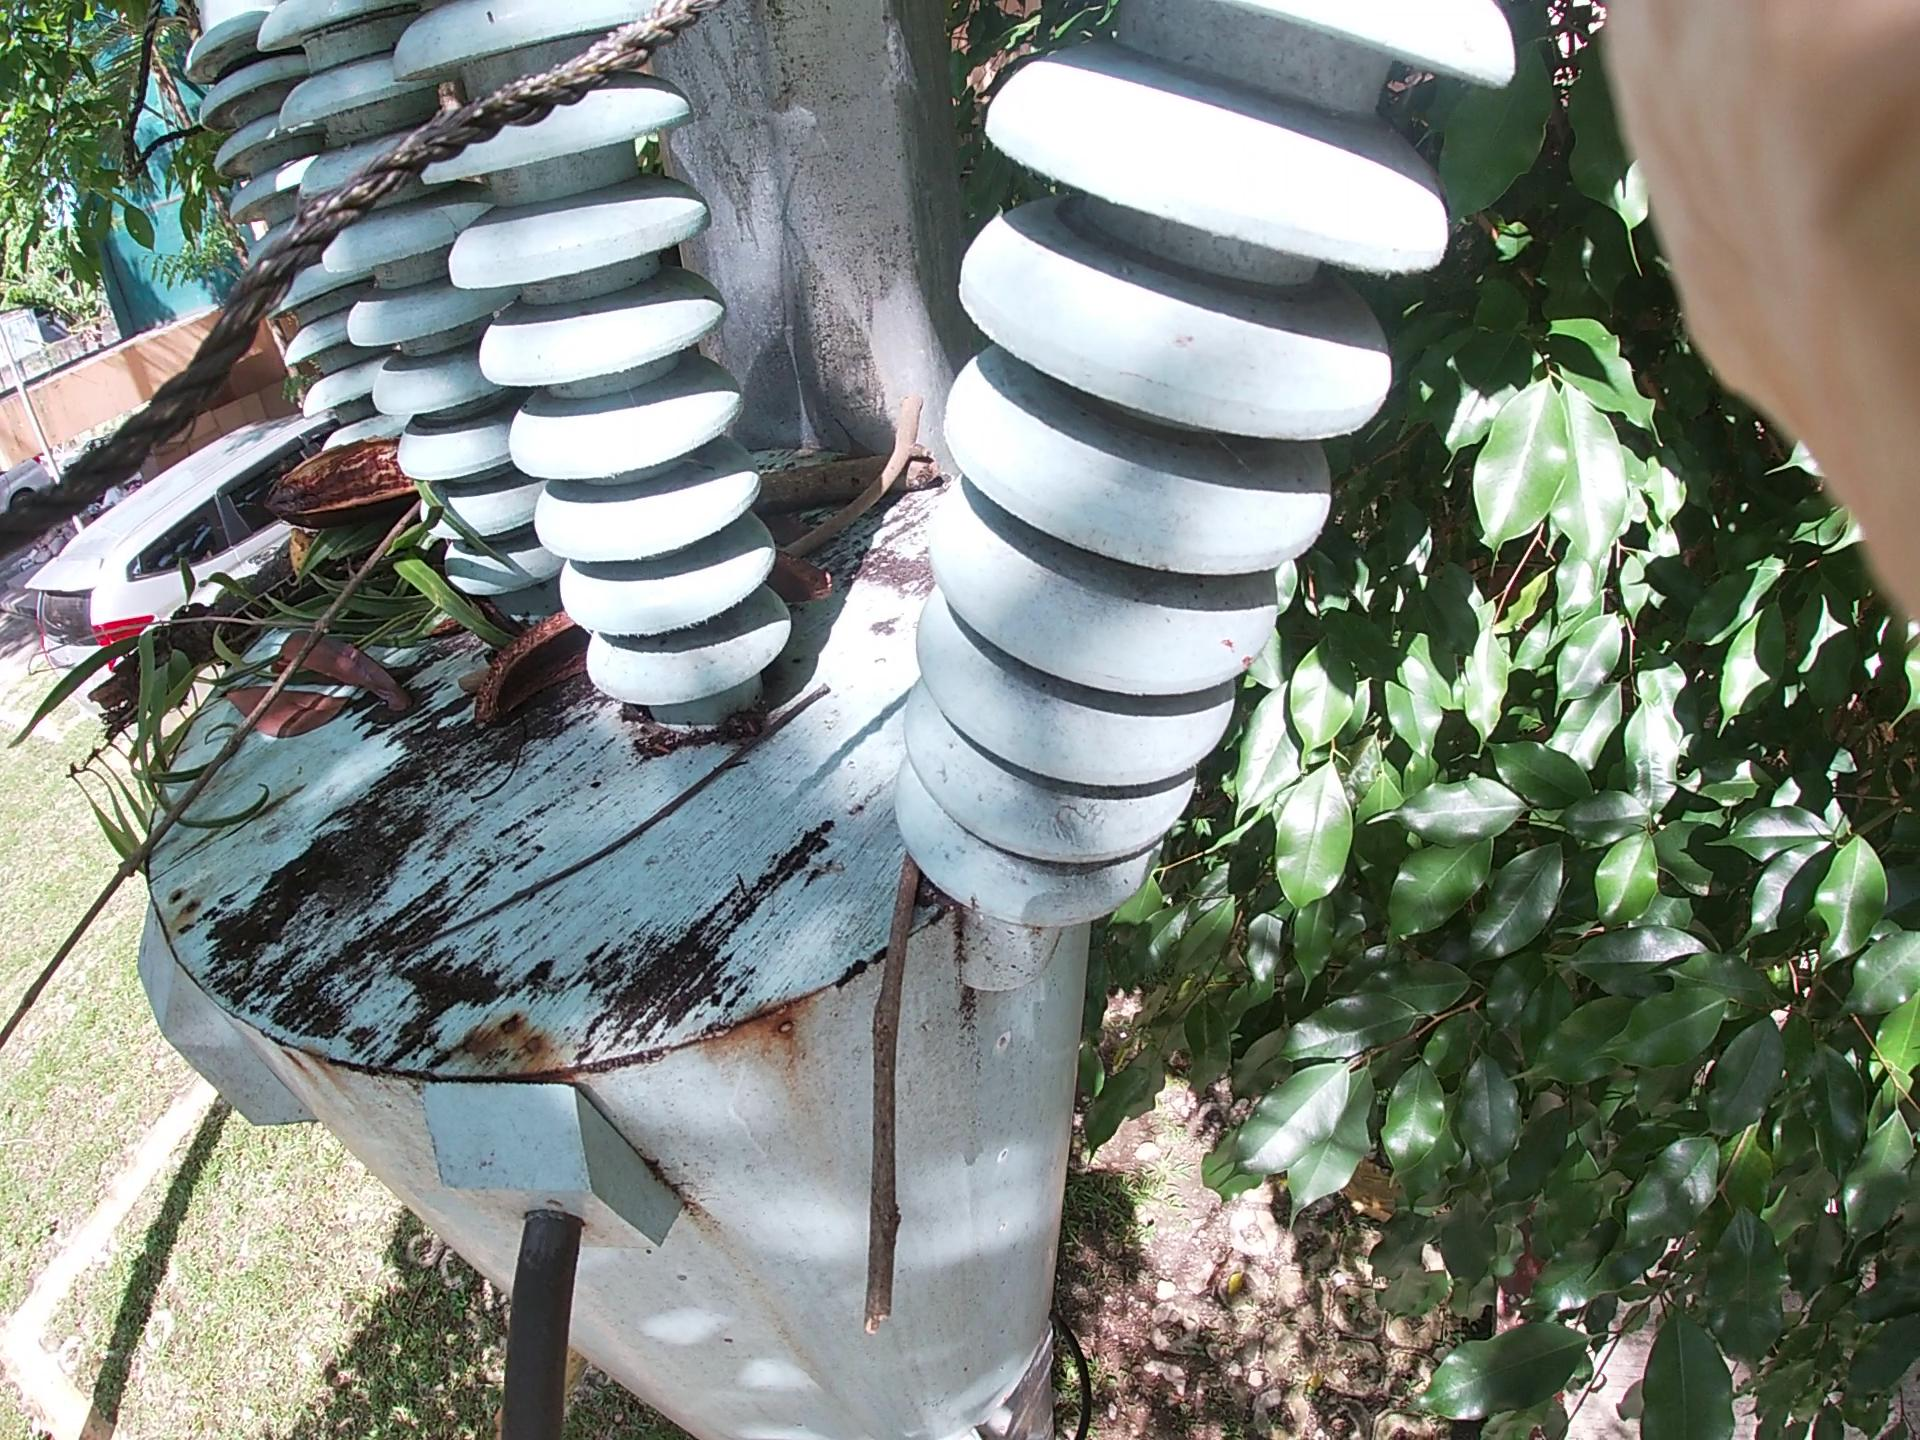branch with leaves: (116, 411, 460, 759)
leaf: (215, 566, 389, 782)
mahogany fruit: (434, 551, 697, 711), (249, 411, 482, 555)
tree branch: (11, 502, 428, 1033), (685, 228, 999, 629), (398, 684, 822, 954), (877, 836, 925, 1317)
